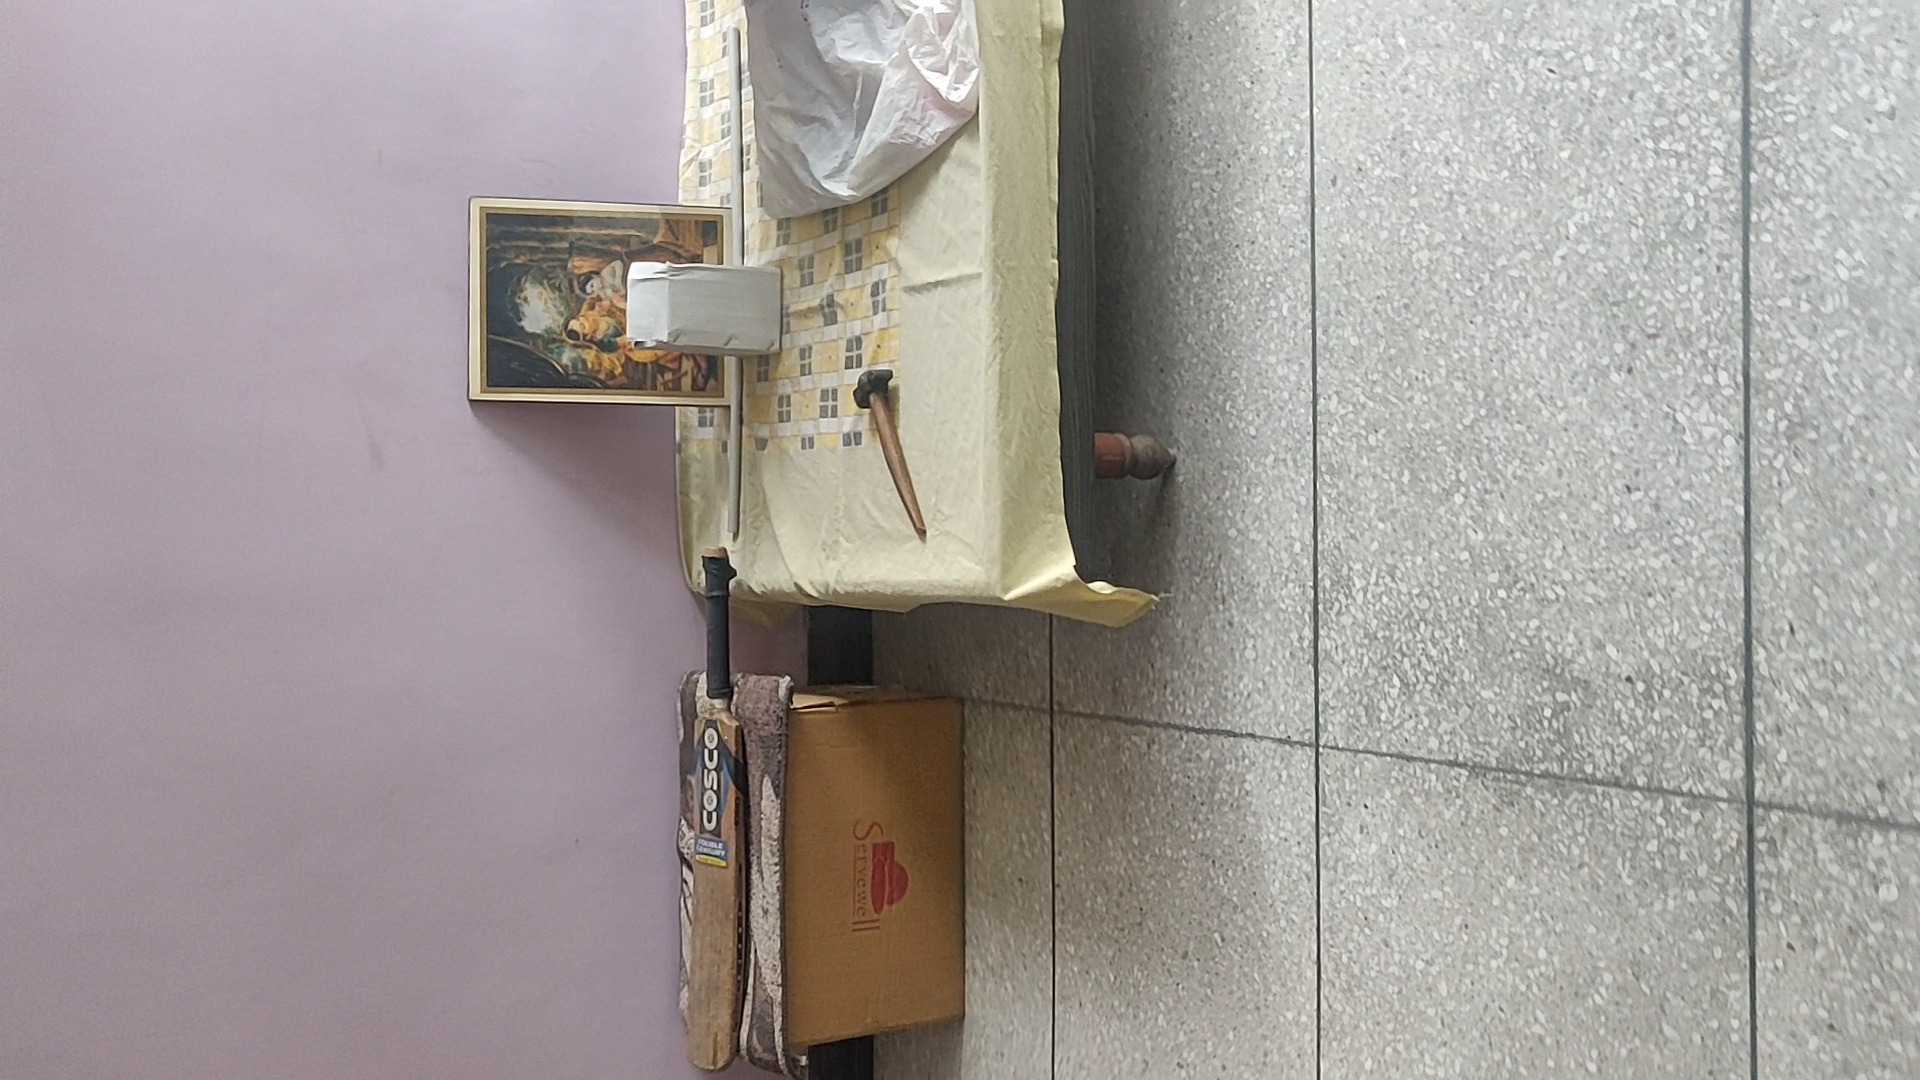hammer: (851, 368, 928, 541)
